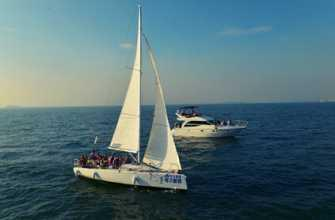fanchuan: (69, 6, 179, 184)
yacht: (175, 100, 239, 140)
